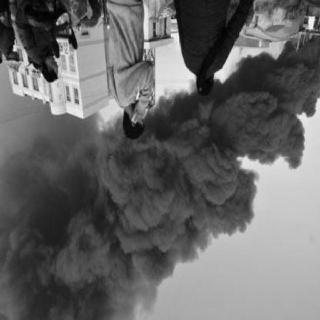Smoke: (160, 97, 258, 247)
